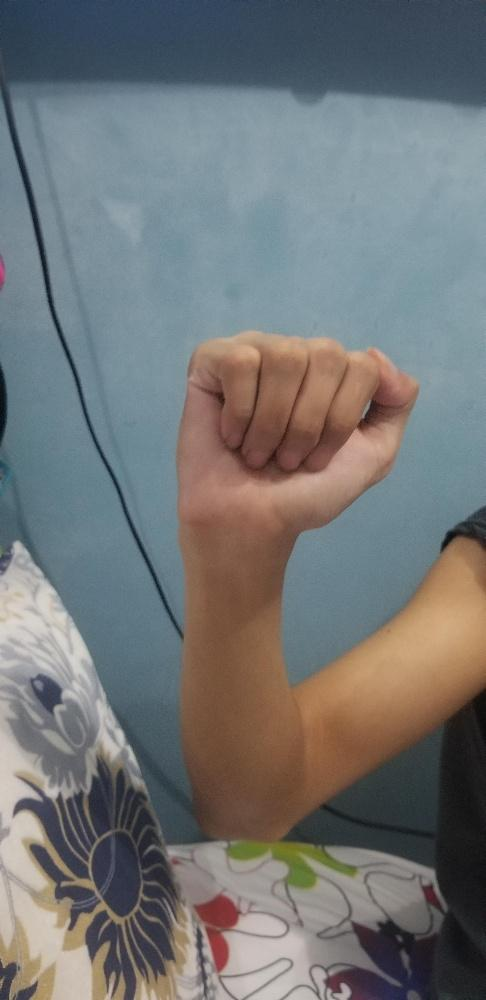a: (168, 326, 425, 555)
